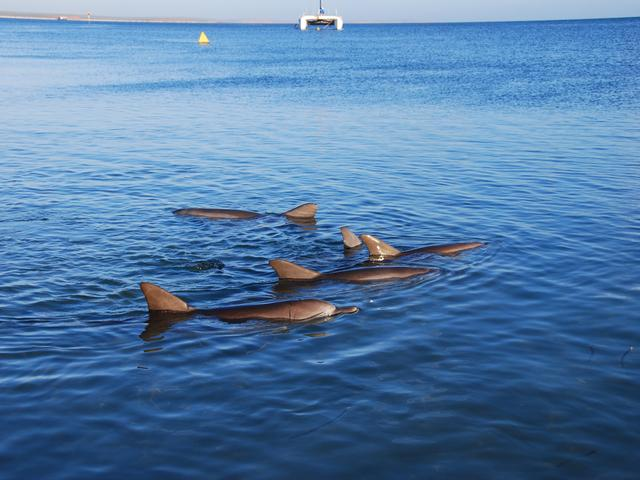dolphin: (137, 277, 404, 356)
